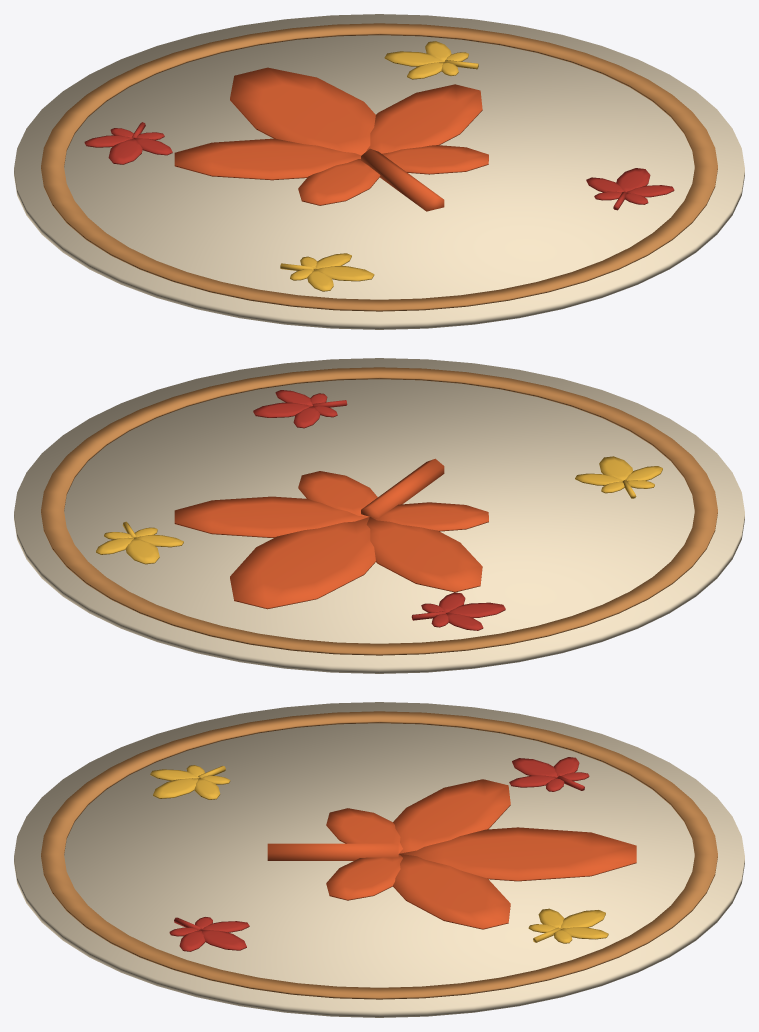
The model's file is maple-rug.glb.
3 views of the same model, one above another, from view 1: azimuth 30°, elevation 25°; view 2: azimuth 150°, elevation 25°; view 3: azimuth 270°, elevation 25° (orthographic).
Parts seen in each view (by area): view 1: rug; view 2: rug; view 3: rug.
Boxes of the visible parts, <box> form: rug: <box>14,14,744,329</box>; rug: <box>14,358,744,673</box>; rug: <box>14,702,744,1017</box>.
Bounding box in the file's own units: 1.9 × 0.062 × 1.9.
